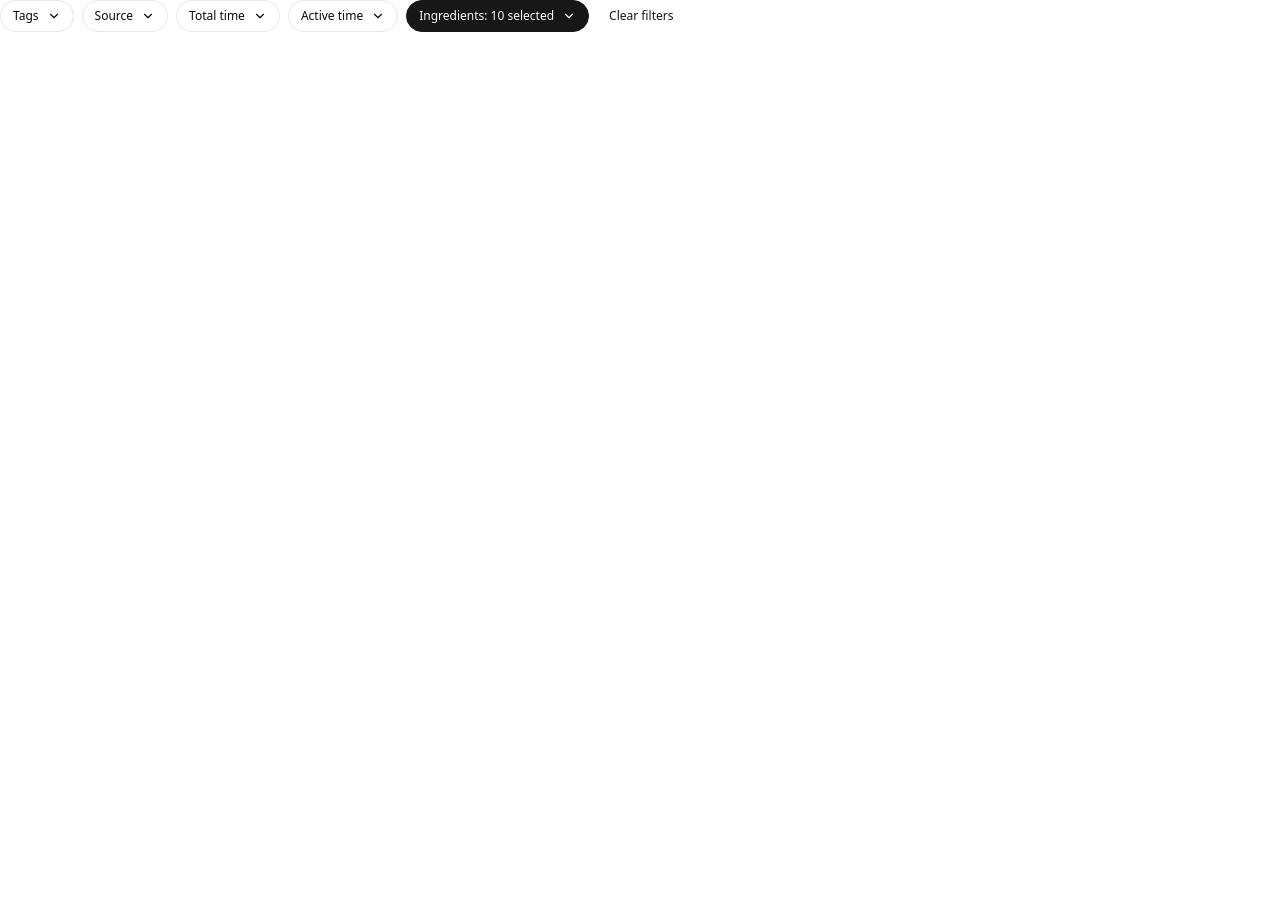
RecipeFilterBar › stops adding ingredients at the limit
Click the button "Ingredients: 10 selected".
click(498, 16)  # box [406,0,589,32]
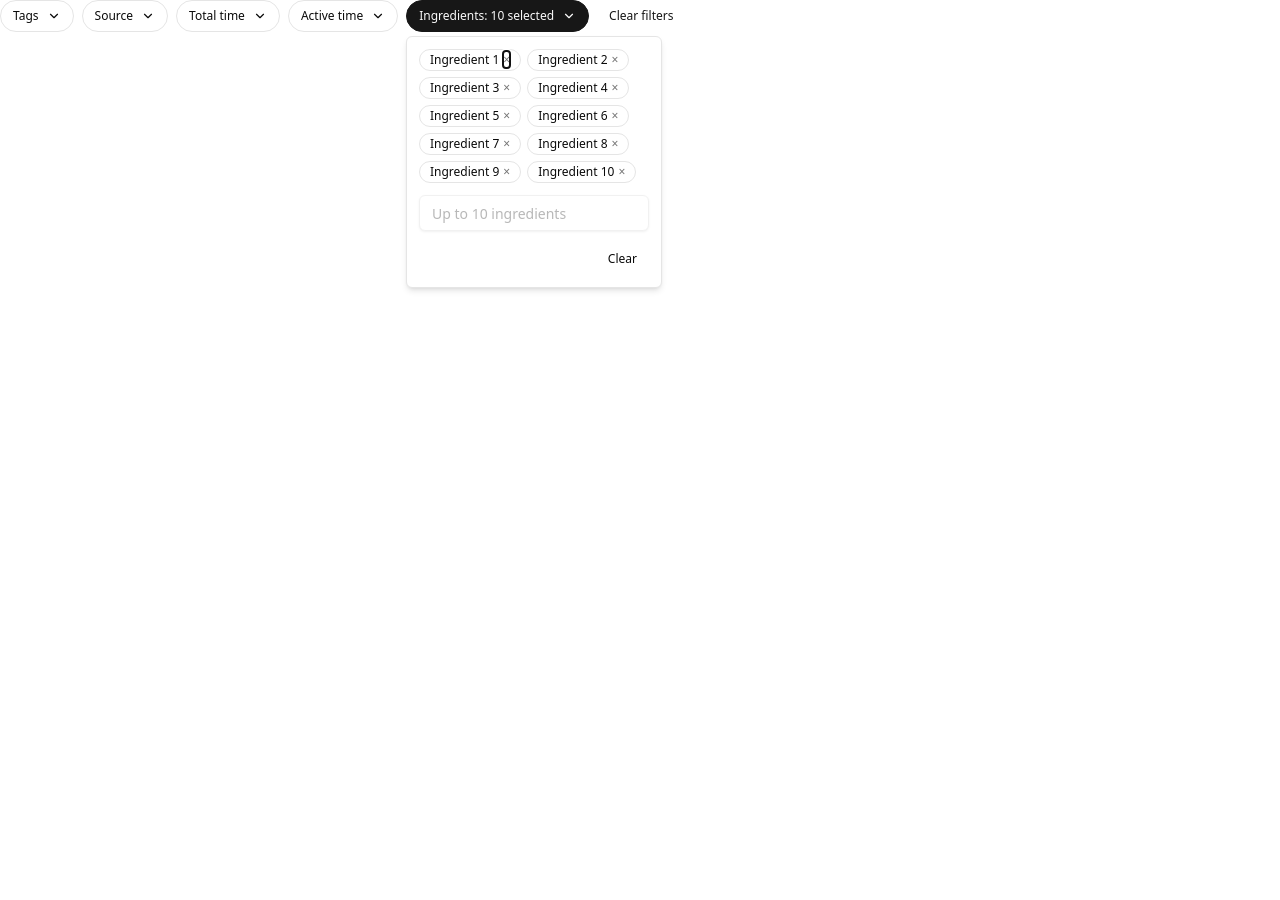
Result: the dropdown named "Find an ingredient" is disabled at [419,195,649,231]
